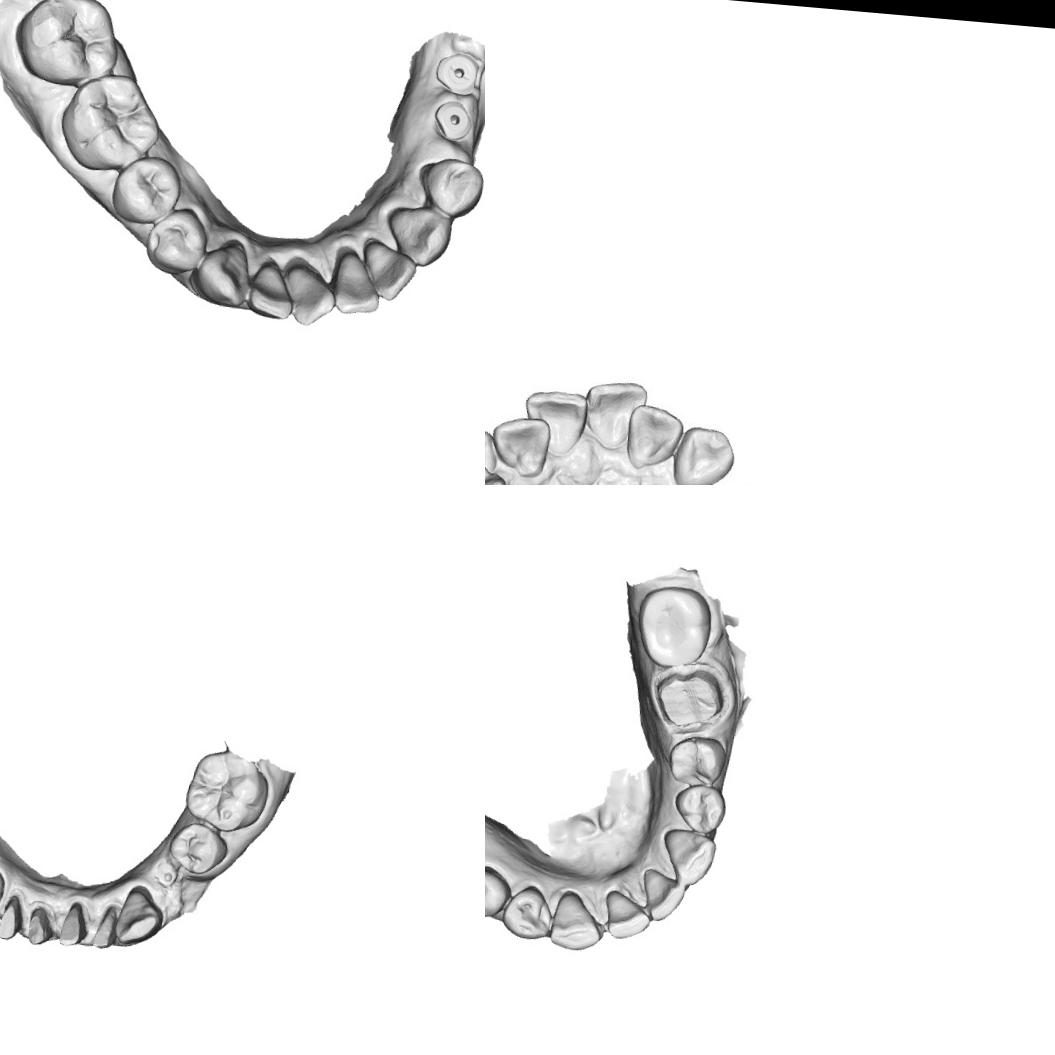canine: (382, 202, 454, 270), (190, 237, 256, 311), (668, 421, 738, 485), (546, 887, 605, 954), (658, 826, 718, 886), (114, 884, 167, 948), (485, 421, 501, 481)
crown: (650, 664, 728, 733), (56, 901, 90, 948), (88, 906, 116, 950), (0, 892, 24, 941), (25, 906, 51, 946)
implant: (432, 96, 473, 138)
implant_minus: (436, 50, 480, 94)
incisor: (580, 377, 648, 452), (520, 387, 590, 458), (622, 402, 686, 473), (281, 249, 339, 327), (488, 413, 553, 481), (326, 250, 384, 317), (244, 256, 295, 324), (362, 242, 417, 303), (638, 867, 686, 924), (600, 888, 650, 942)
molar: (57, 71, 166, 177), (9, 0, 121, 89), (182, 746, 272, 836), (632, 581, 716, 670)
premolar: (110, 153, 182, 224), (142, 204, 207, 274), (417, 154, 485, 219), (498, 880, 558, 942), (165, 820, 230, 876), (664, 734, 730, 788), (668, 781, 728, 836), (485, 861, 513, 918)
